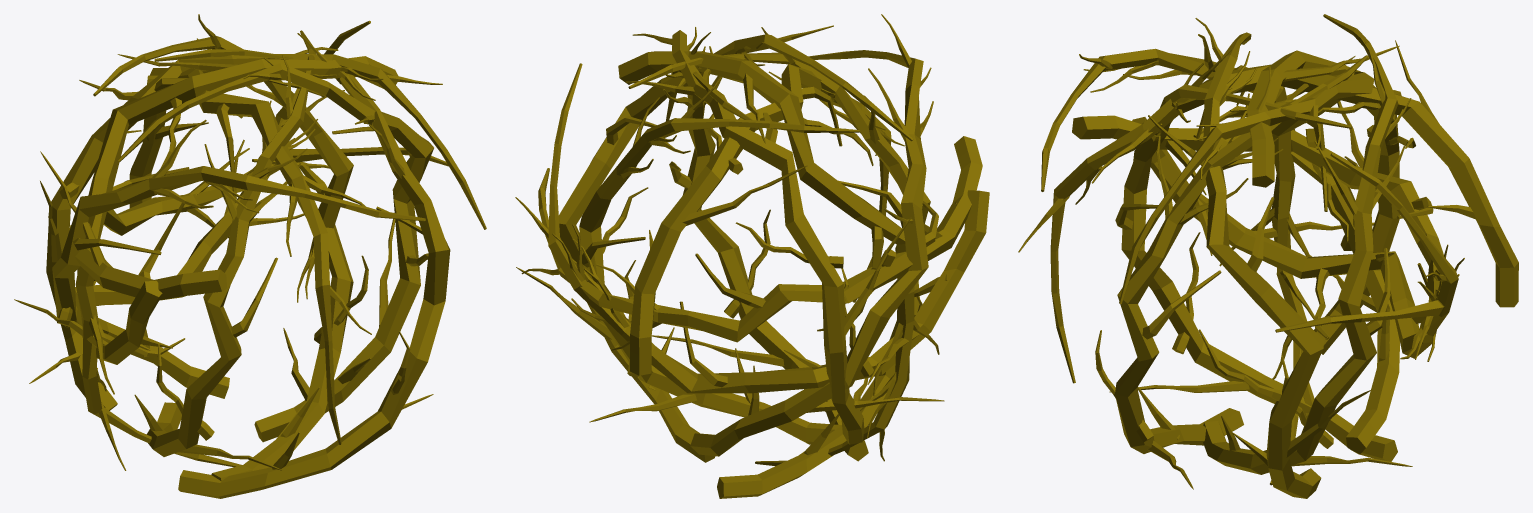
File: TumbleWeed2.fbx
3 views of the same model, side by side, from view 1: azimuth 30°, elevation 25°; view 2: azimuth 150°, elevation 25°; view 3: azimuth 270°, elevation 25° (orthographic). The views are drawn at different scales.
Parts seen in each view (by area): view 1: TumbleWeed; view 2: TumbleWeed; view 3: TumbleWeed.
Part boxes in pixels (<box>): TumbleWeed: <box>14,14,486,498</box>; TumbleWeed: <box>515,14,989,498</box>; TumbleWeed: <box>1018,14,1518,498</box>.
Size of the model in its own units: 4080 by 4023 by 4090.
